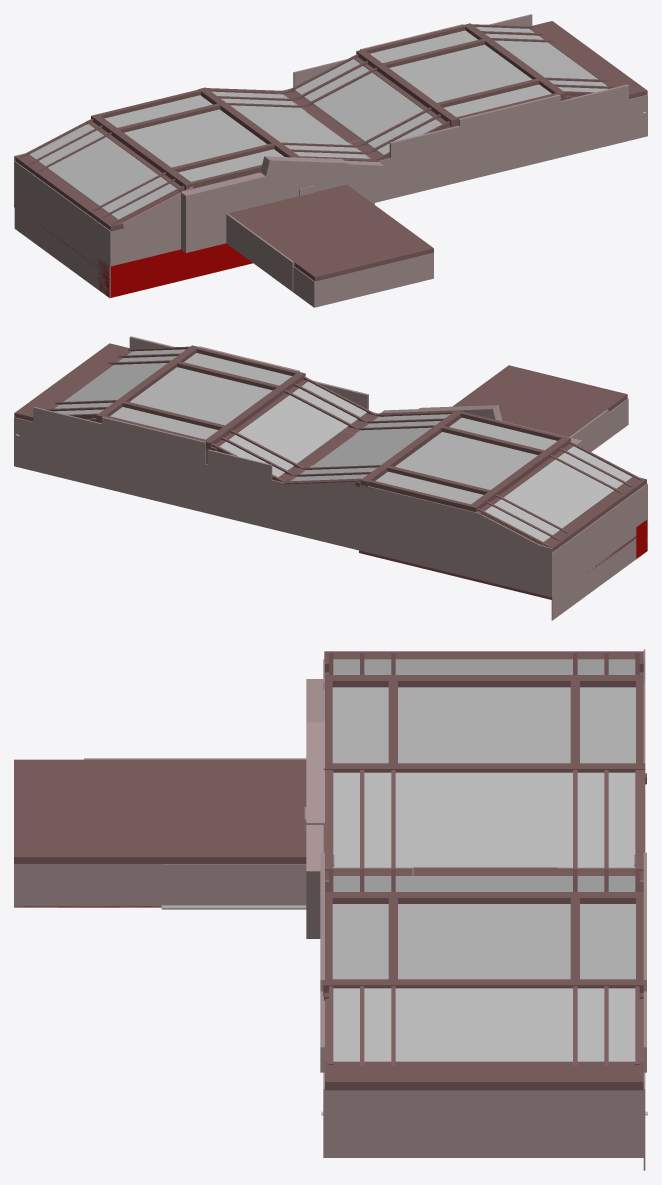
The model's file is vegas_map.glb.
3 views of the same model, one above another, from view 1: azimuth 30°, elevation 25°; view 2: azimuth 150°, elevation 25°; view 3: azimuth 270°, elevation 25° (orthographic). The views are drawn at different scales.
Parts seen in each view (by area): view 1: Roblox reference geometry; view 2: Roblox reference geometry; view 3: Roblox reference geometry.
Part boxes in pixels (box(x1,y1,x2,y2)): Roblox reference geometry: box(14, 14, 647, 307); Roblox reference geometry: box(14, 336, 647, 620); Roblox reference geometry: box(14, 649, 647, 1170).
Bounding box in the file's own units: 669 × 124 × 408.
